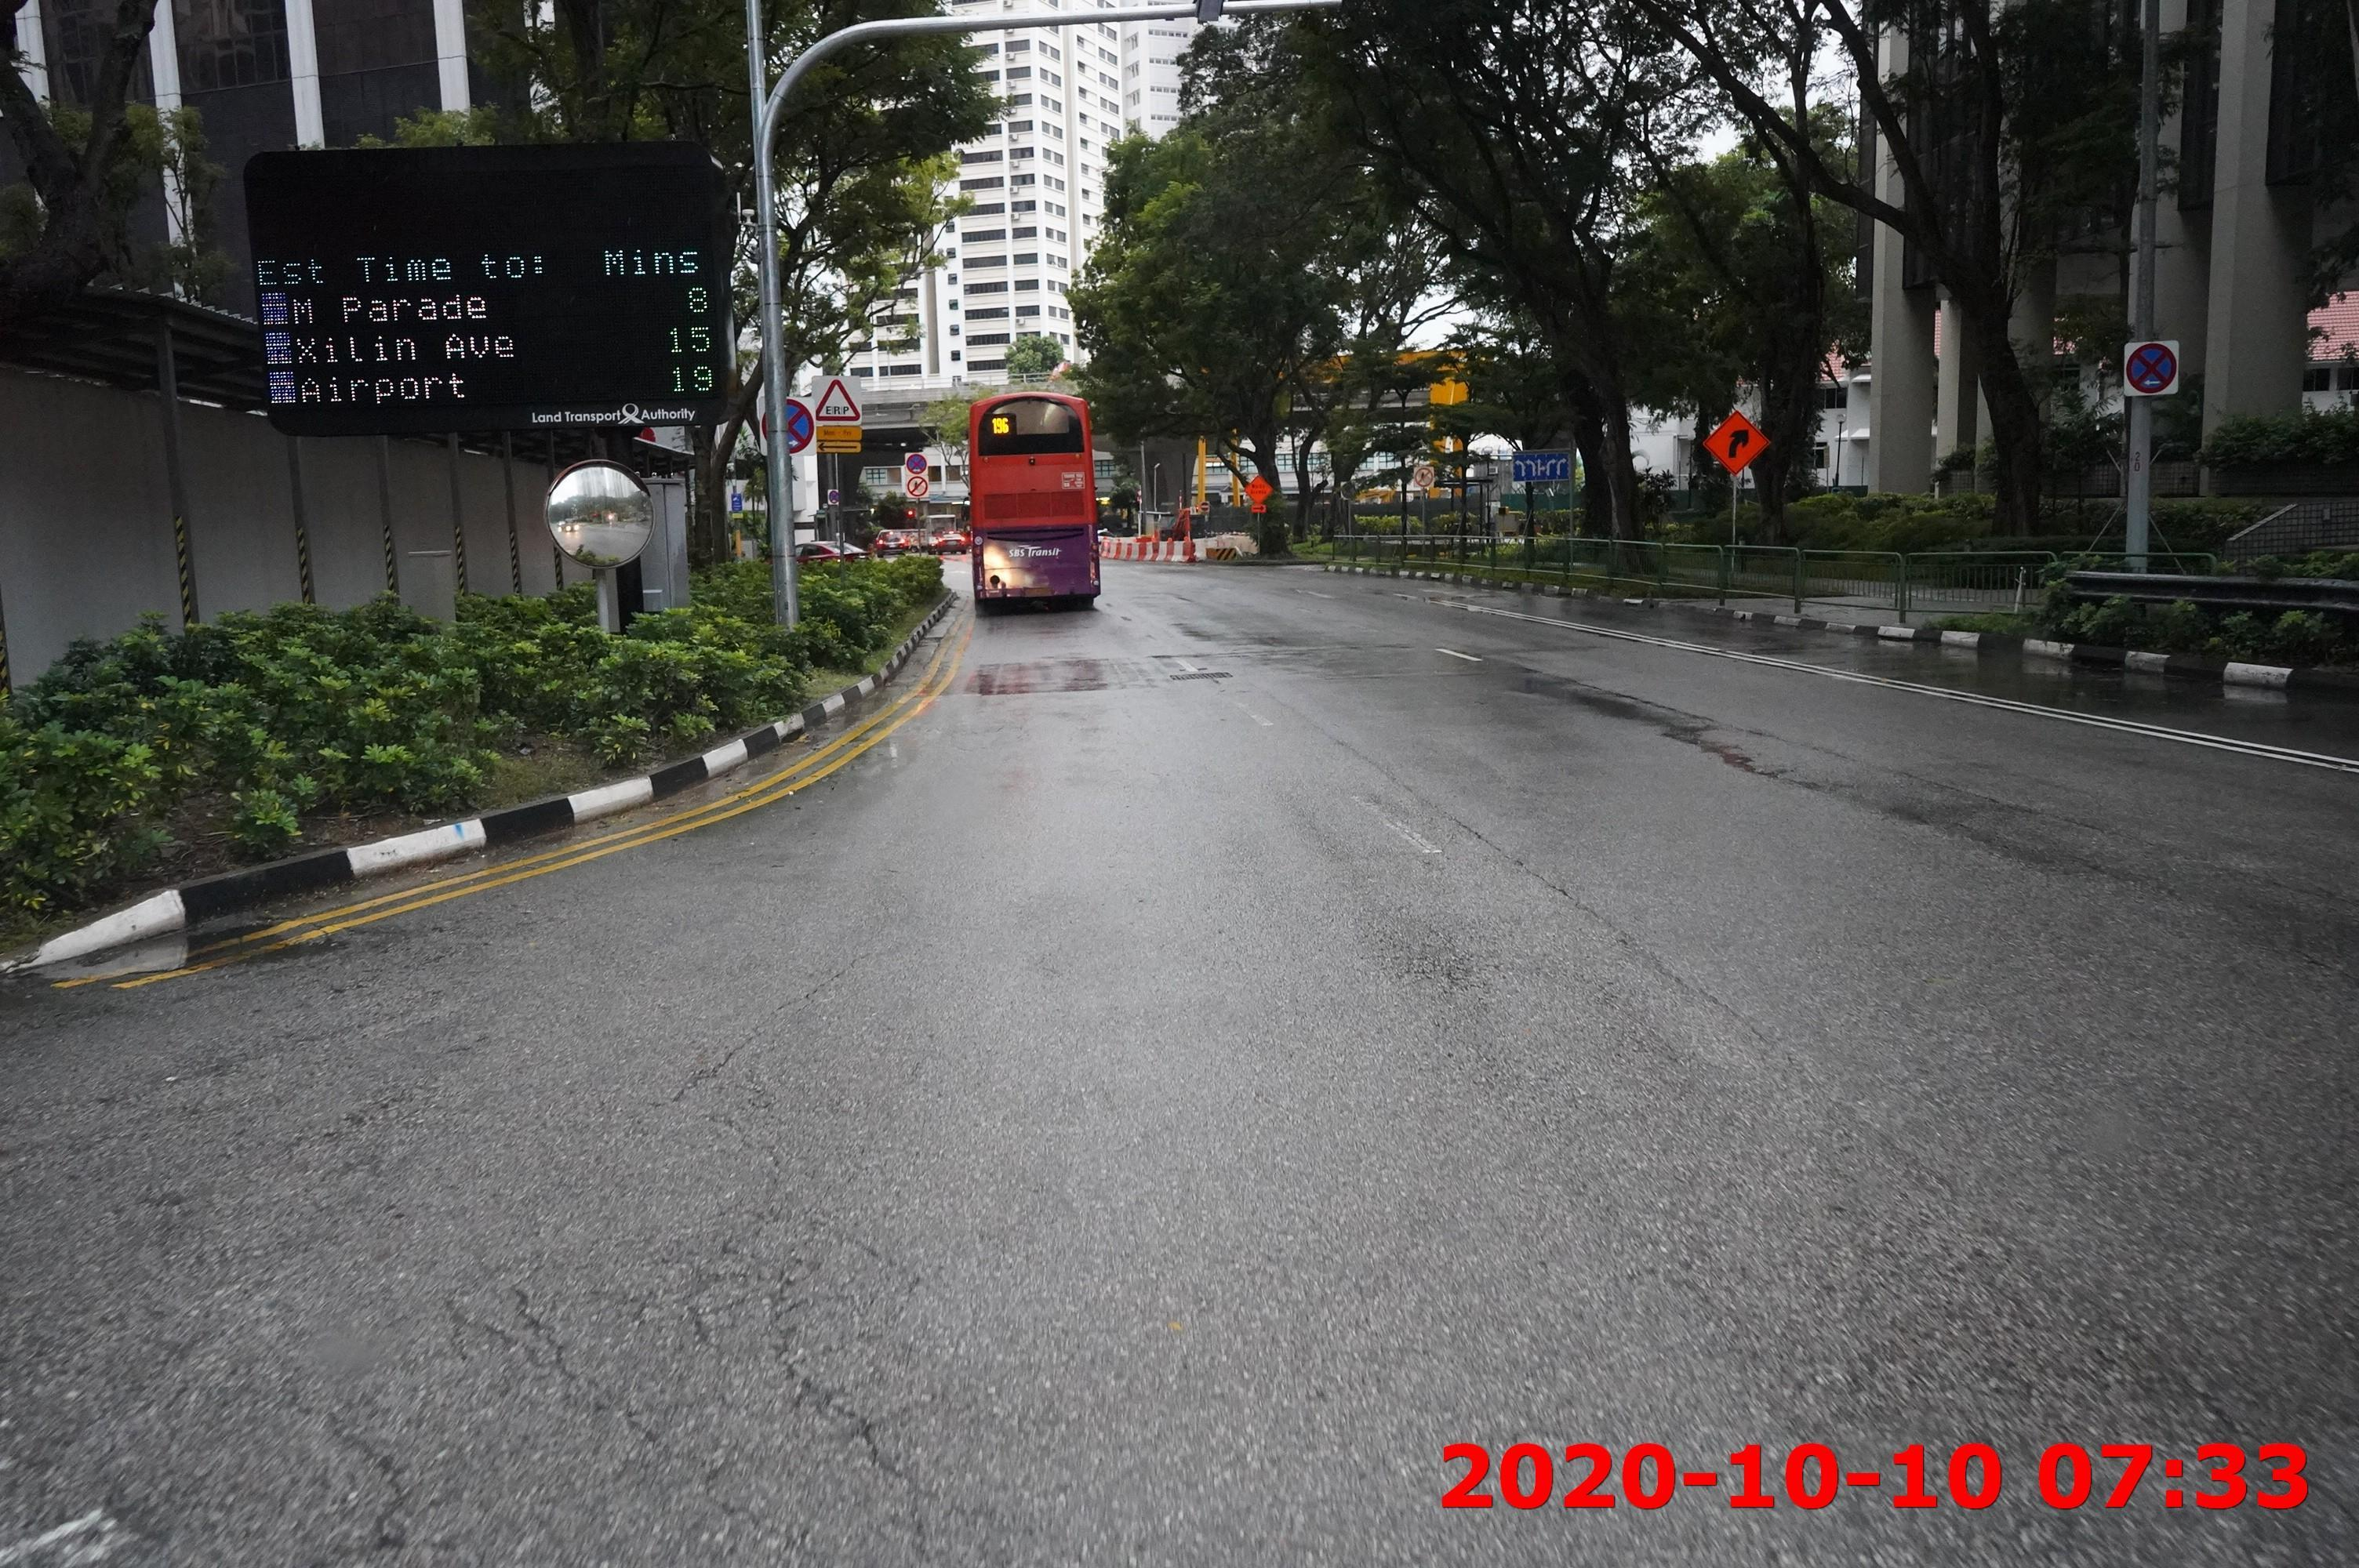alligator crack: (296, 1160, 947, 1557)
single crack: (653, 950, 894, 1143)
